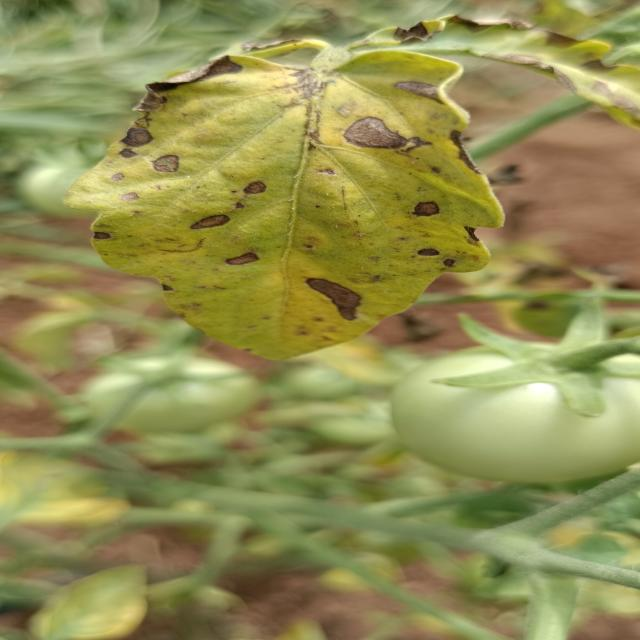tomato_early blight: (64, 39, 503, 359)
